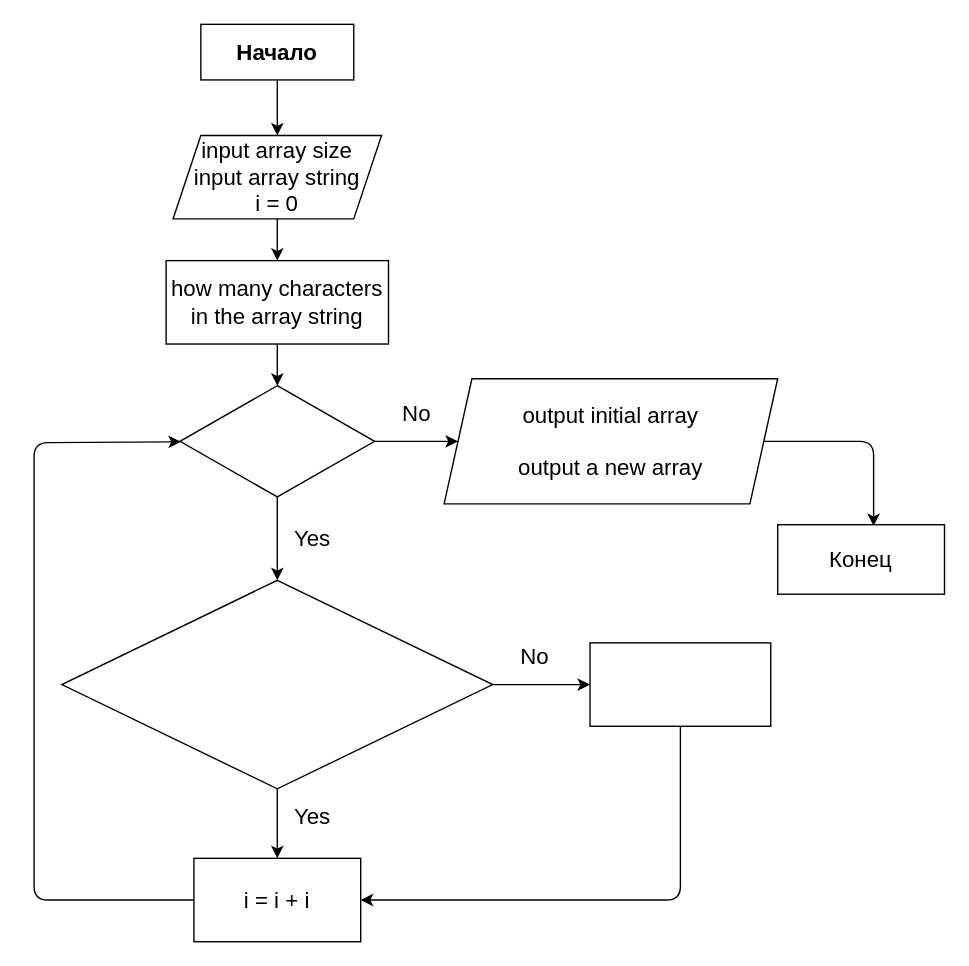
This 969x966 diagram has some shape labels left out. Each missing label, with the box of its shape:
i < size: (179, 384, 375, 497)
Insert string into new array: (589, 641, 771, 726)
Is there more than 3 characters in the string?: (60, 579, 493, 789)
